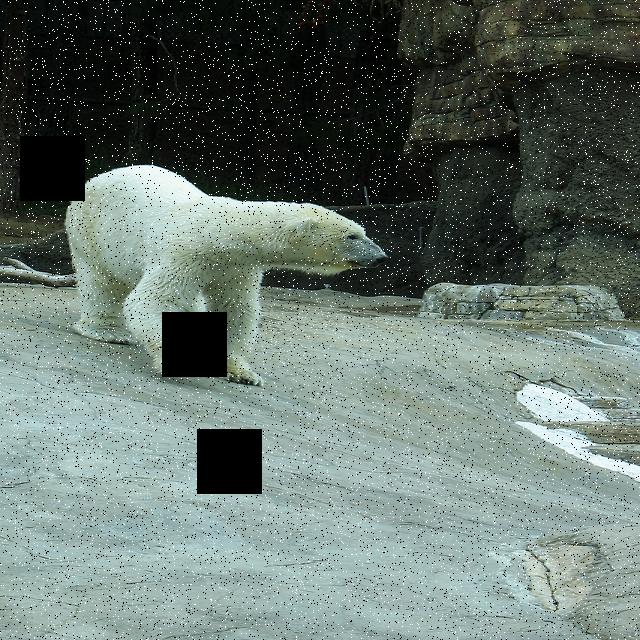Bear: (50, 161, 391, 393)
